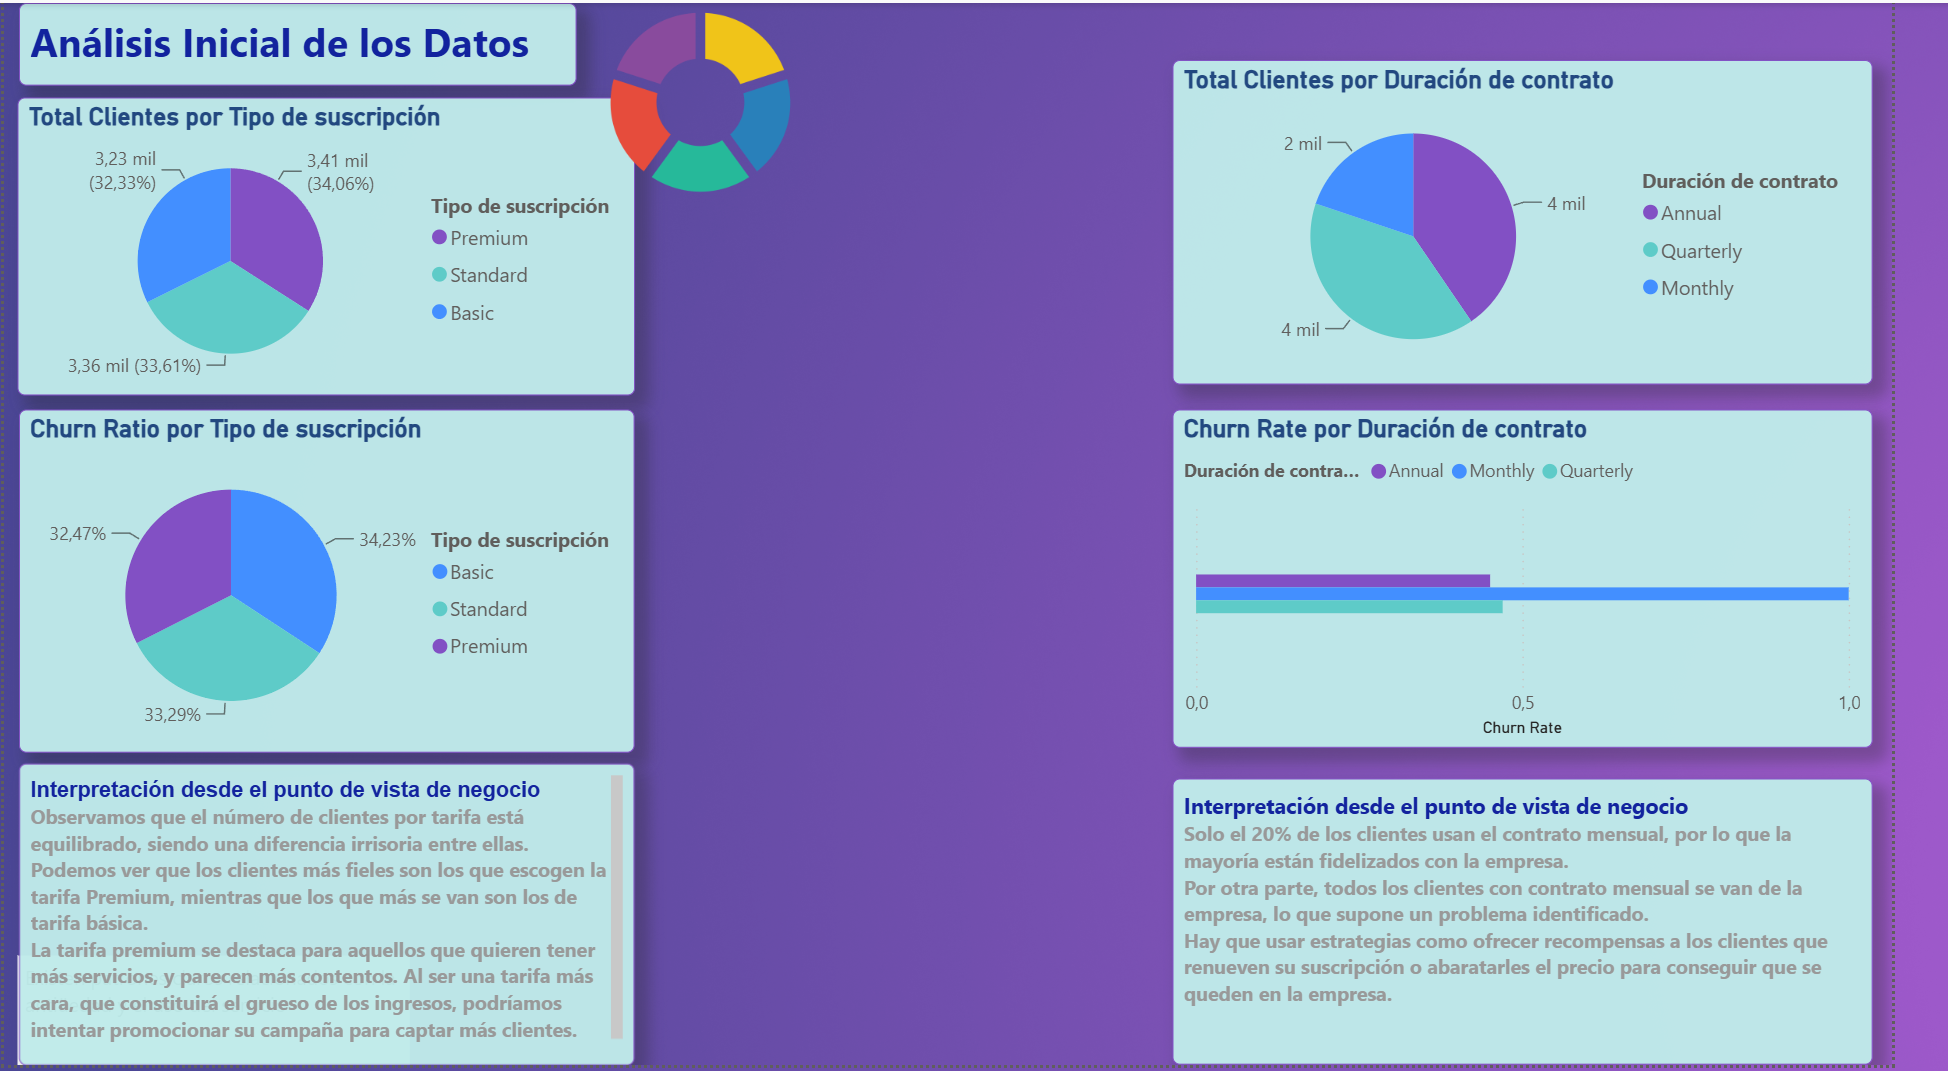

The page's visual inventory and layout, read from the dashboard file:
{"tool":"powerbi","page":{"name":"6 - Análisis inicial","canvas":[1280,720],"ordinal":5},"visuals":[{"type":"textbox","box":[10.5,0,377.9,55.8],"z":0},{"type":"textbox","box":[9.3,645.4,266.3,74.4],"z":1000},{"type":"pieChart","fields":{"Category":["customer_churn_10k.Tipo de suscripción"],"Y":["Funciones DAX.Total Clientes"]},"box":[9.3,64,418.6,202.3],"z":2000},{"type":"pieChart","fields":{"Category":["customer_churn_10k.Tipo de suscripción"],"Y":["Funciones DAX.Churn Ratio"]},"box":[10.5,275.6,417.4,232.6],"z":3000},{"type":"textbox","box":[10.5,515.1,417.4,204.7],"z":4000},{"type":"pieChart","fields":{"Category":["customer_churn_10k.Duración de contrato"],"Y":["Funciones DAX.Total Clientes"]},"box":[791.9,38.4,474.4,219.8],"z":5000},{"type":"clusteredBarChart","fields":{"Y":["Funciones DAX.Churn Rate"],"Series":["customer_churn_10k.Duración de contrato"]},"box":[791.9,275.6,474.4,229.1],"z":6000},{"type":"textbox","box":[791.9,525.6,474.4,194.2],"z":7000},{"type":"image","box":[388.4,0,167.4,134.9],"z":8000}]}

Visuals, with their boxes in screenshot pixels (x1, y1, x2, y2), scaled from the page's 1280x720 canvas onto the 1948x1071 screenshot:
textbox: crop(16, 0, 591, 83)
textbox: crop(14, 960, 419, 1070)
pieChart - customer_churn_10k.Tipo de suscripción x Funciones DAX.Total Clientes: crop(14, 95, 651, 396)
pieChart - customer_churn_10k.Tipo de suscripción x Funciones DAX.Churn Ratio: crop(16, 410, 651, 756)
textbox: crop(16, 766, 651, 1070)
pieChart - customer_churn_10k.Duración de contrato x Funciones DAX.Total Clientes: crop(1205, 57, 1927, 384)
clusteredBarChart - Funciones DAX.Churn Rate x customer_churn_10k.Duración de contrato: crop(1205, 410, 1927, 751)
textbox: crop(1205, 782, 1927, 1070)
image: crop(591, 0, 846, 201)
